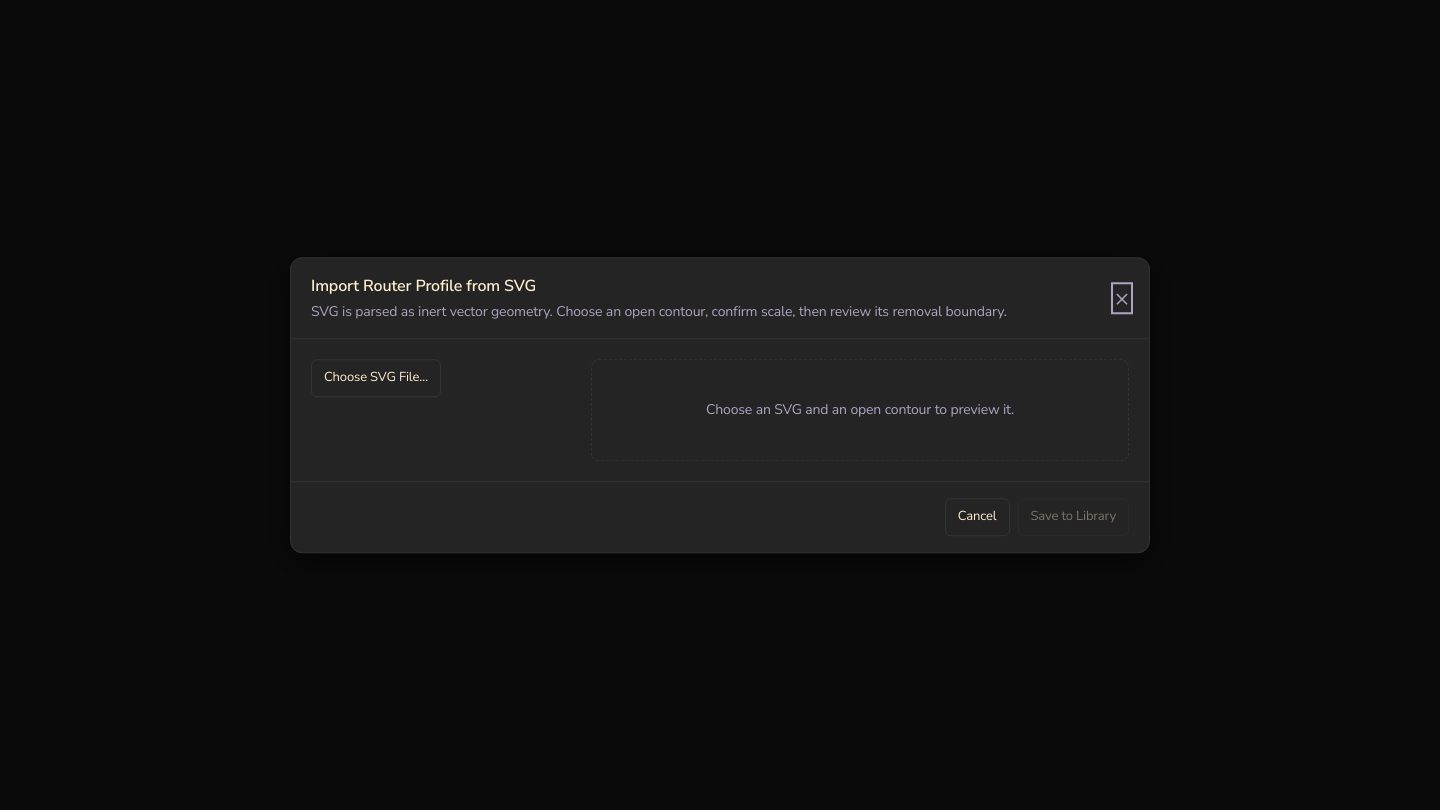
SvgRouterProfileImportDialog › surfaces parser security failures and never enables save
Click the button "Choose SVG File…" at x=376, y=378, box [311,359,441,397]
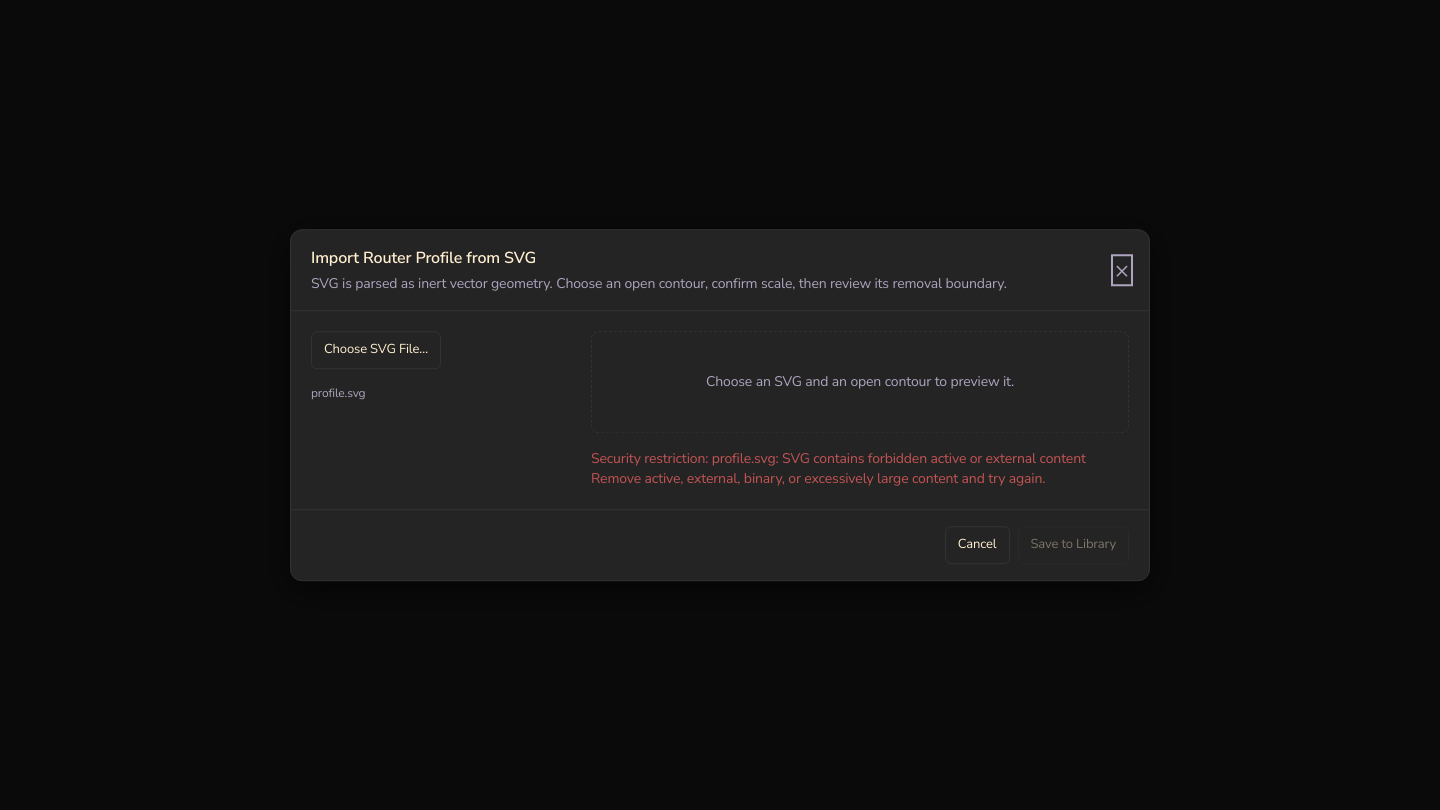
Expected: the button "Save to Library" is disabled, [1018,526,1129,564]
Now the message shows "forbidden active or external content", box [591,449,1086,488]
